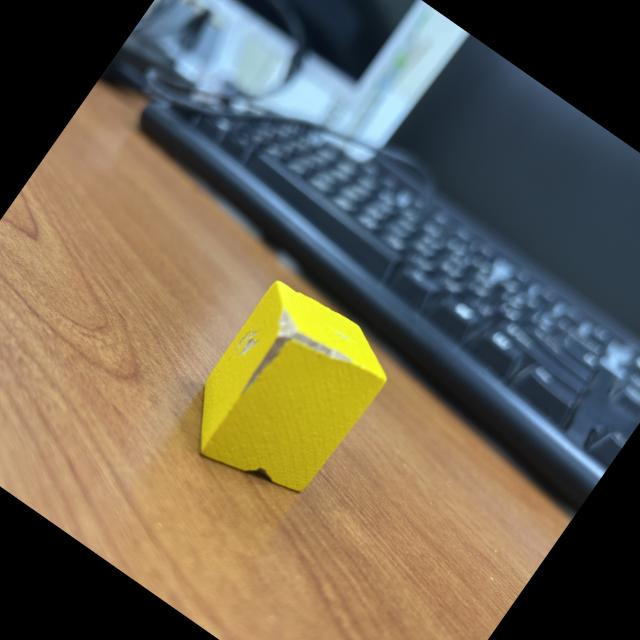broken: (166, 270, 404, 518)
